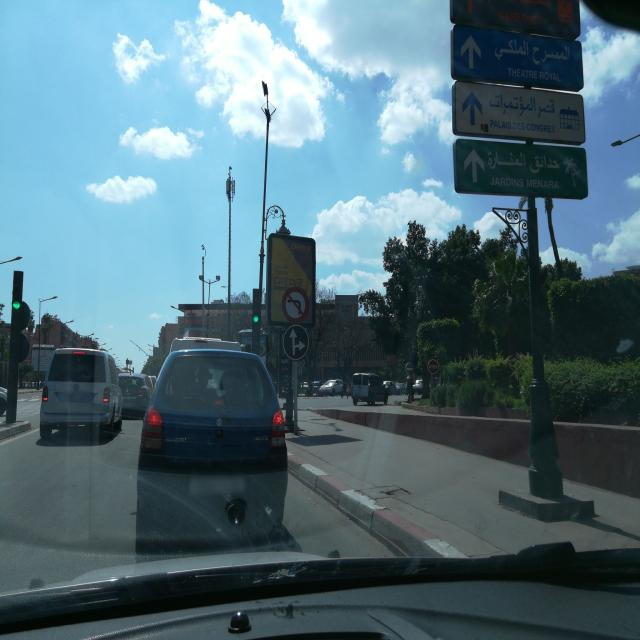car: (136, 338, 289, 537), (39, 346, 123, 441), (118, 373, 154, 418), (352, 372, 389, 406), (318, 379, 344, 397), (388, 381, 408, 395), (0, 381, 8, 416)
